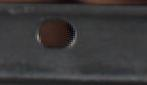holes: (33, 15, 78, 50)
